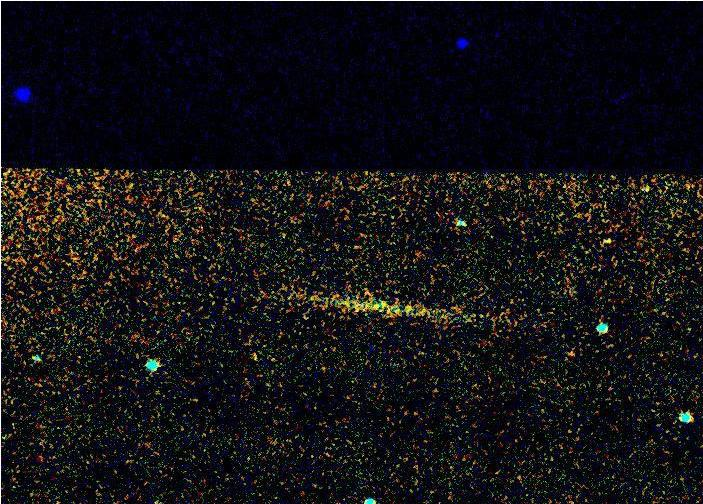star: (557, 339, 587, 369)
